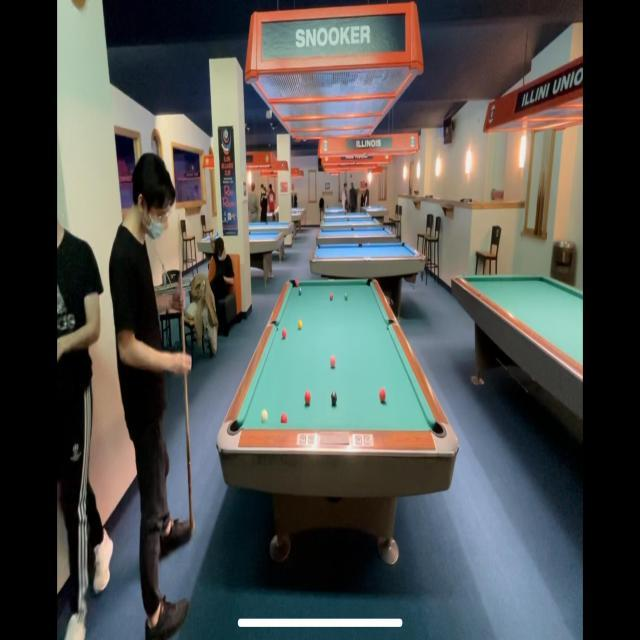Ball: (280, 413, 288, 427), (261, 410, 268, 424), (380, 387, 386, 403), (304, 390, 310, 406), (330, 356, 336, 368), (331, 392, 337, 404), (282, 328, 287, 338), (298, 320, 302, 330), (298, 288, 302, 296), (344, 293, 348, 301), (330, 292, 332, 302), (296, 280, 299, 286)
Pocket: (424, 414, 446, 439), (227, 418, 246, 436), (269, 318, 280, 332), (384, 318, 396, 330), (288, 277, 298, 288), (364, 278, 375, 288)
